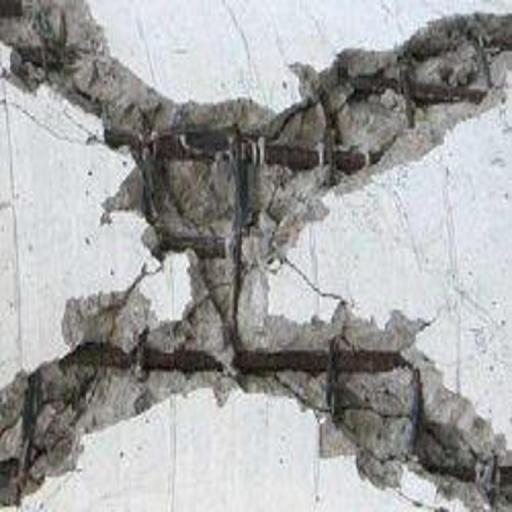spalling: (0, 1, 512, 512)
